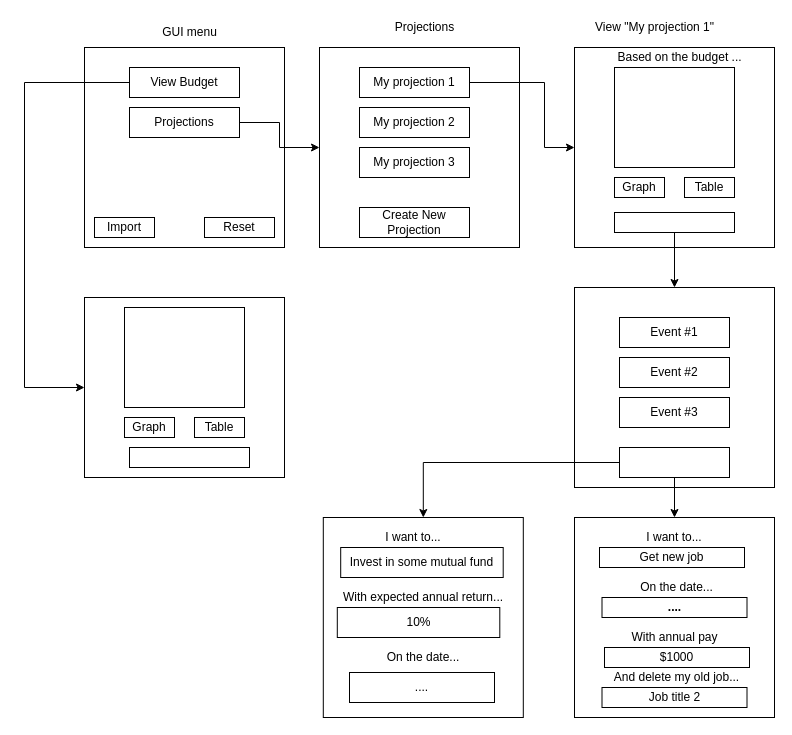
Some shapes in this 792 by 735 pixel diagram are drawn without their labels. Here are the shapes that lost their labels. From the top down, the box of each, then its label:
(614, 212, 734, 232): View Events
(128, 446, 250, 468): View Transactions
(618, 446, 730, 478): Create New Event
